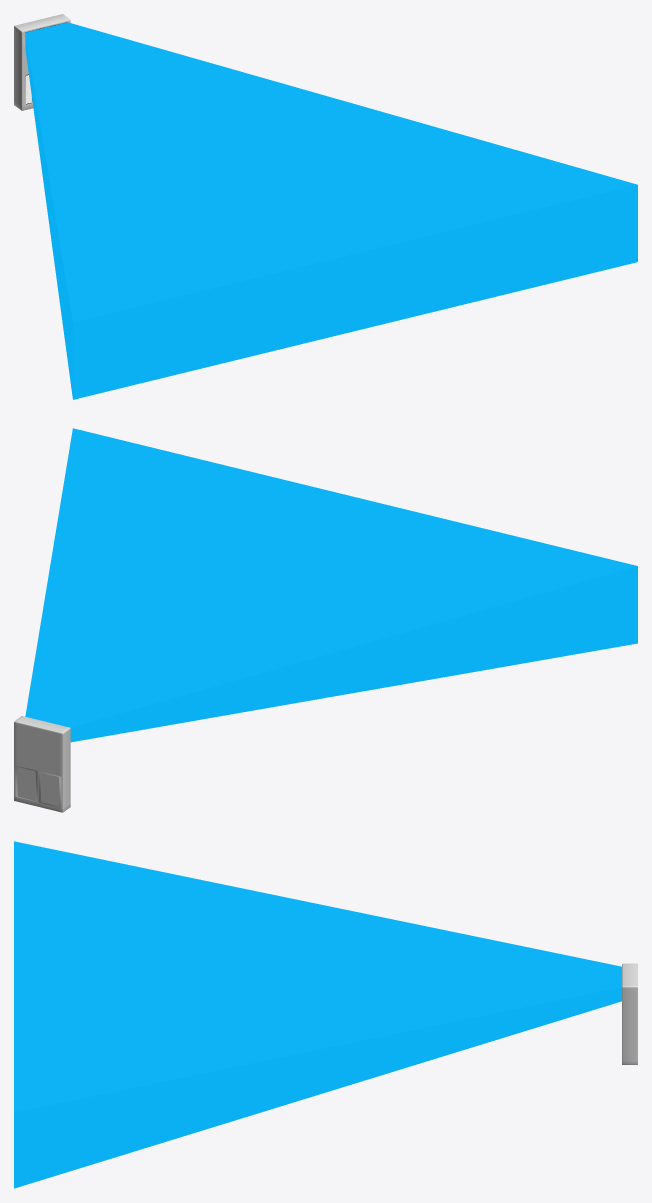
Rendered from 10ton_AC_CC.gltf.
3 renders of one model, top to bottom at view 1: azimuth 30°, elevation 25°; view 2: azimuth 150°, elevation 25°; view 3: azimuth 270°, elevation 25°, orthographic.
Visible parts, largest first — view 1: Cube, Cube.002; view 2: Cube, Cube.002; view 3: Cube, Cube.002.
Boxes of the visible parts, x1,y1,x2,y2 form: Cube: (25,22,637,399); Cube.002: (14,14,70,110); Cube: (25,428,637,742); Cube.002: (14,716,70,812); Cube: (14,841,621,1188); Cube.002: (622,963,637,1064).
Bounding box in the file's own units: 141 × 18.9 × 137.
